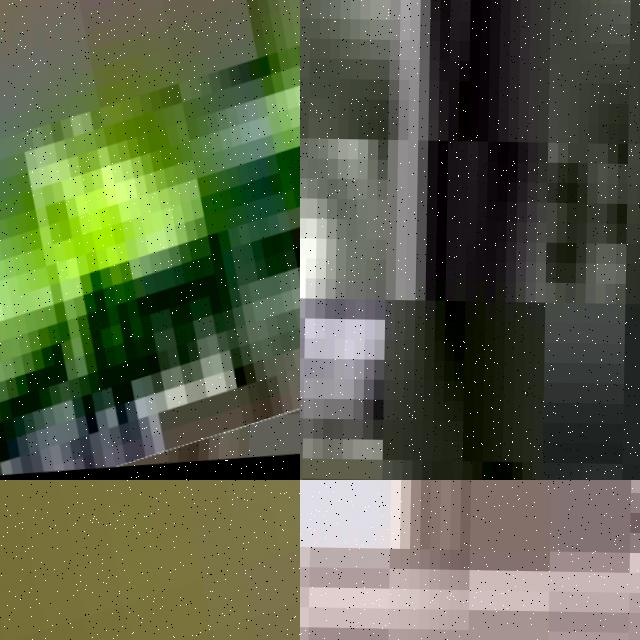0: (0, 0, 300, 480)
drone: (0, 480, 300, 640)
